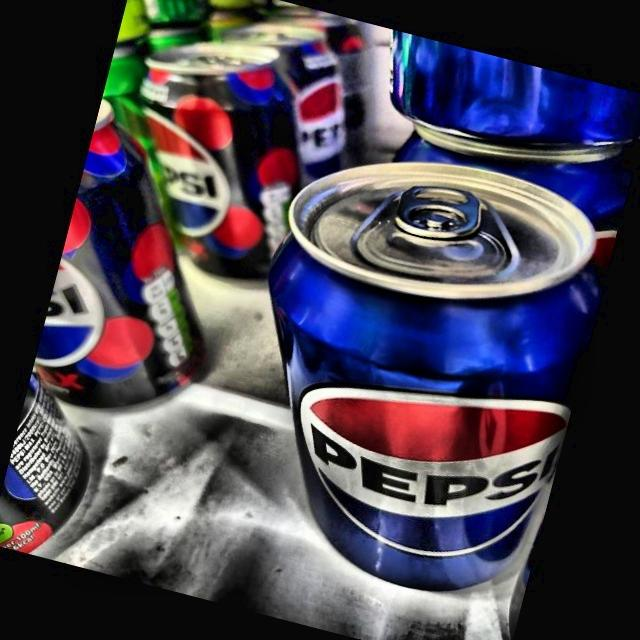pepsi-can: (274, 163, 562, 585)
